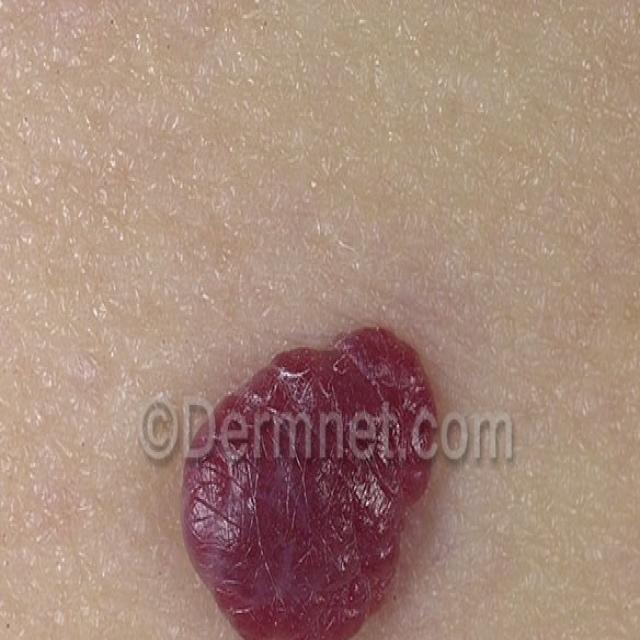Vascular Tumors: (177, 309, 453, 640)
